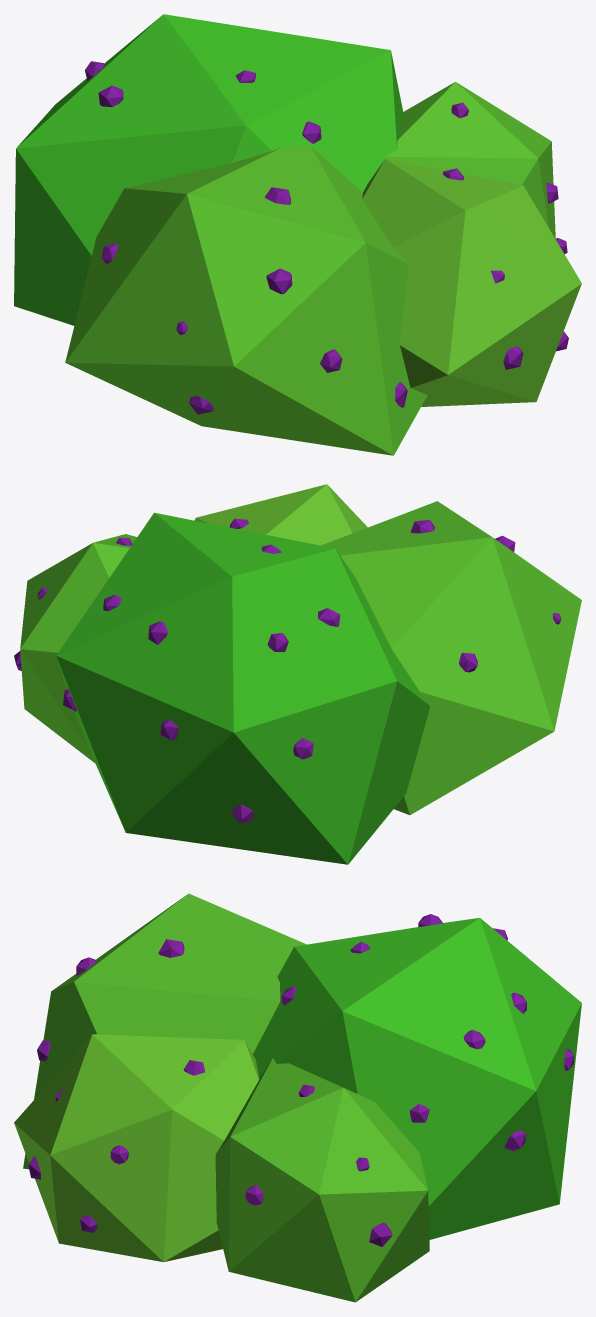
The model's file is bush3berrygood.fbx.
3 views of the same model, one above another, from view 1: azimuth 30°, elevation 25°; view 2: azimuth 150°, elevation 25°; view 3: azimuth 270°, elevation 25° (orthographic). The views are drawn at different scales.
Parts seen in each view (by area): view 1: Icosphere.004; view 2: Icosphere.004; view 3: Icosphere.004.
Part boxes in pixels (left/top/right/bottom): Icosphere.004: left=14, top=14, right=581, bottom=455; Icosphere.004: left=14, top=484, right=581, bottom=864; Icosphere.004: left=14, top=893, right=581, bottom=1302.
Size of the model in its own units: 412 by 204 by 401.
